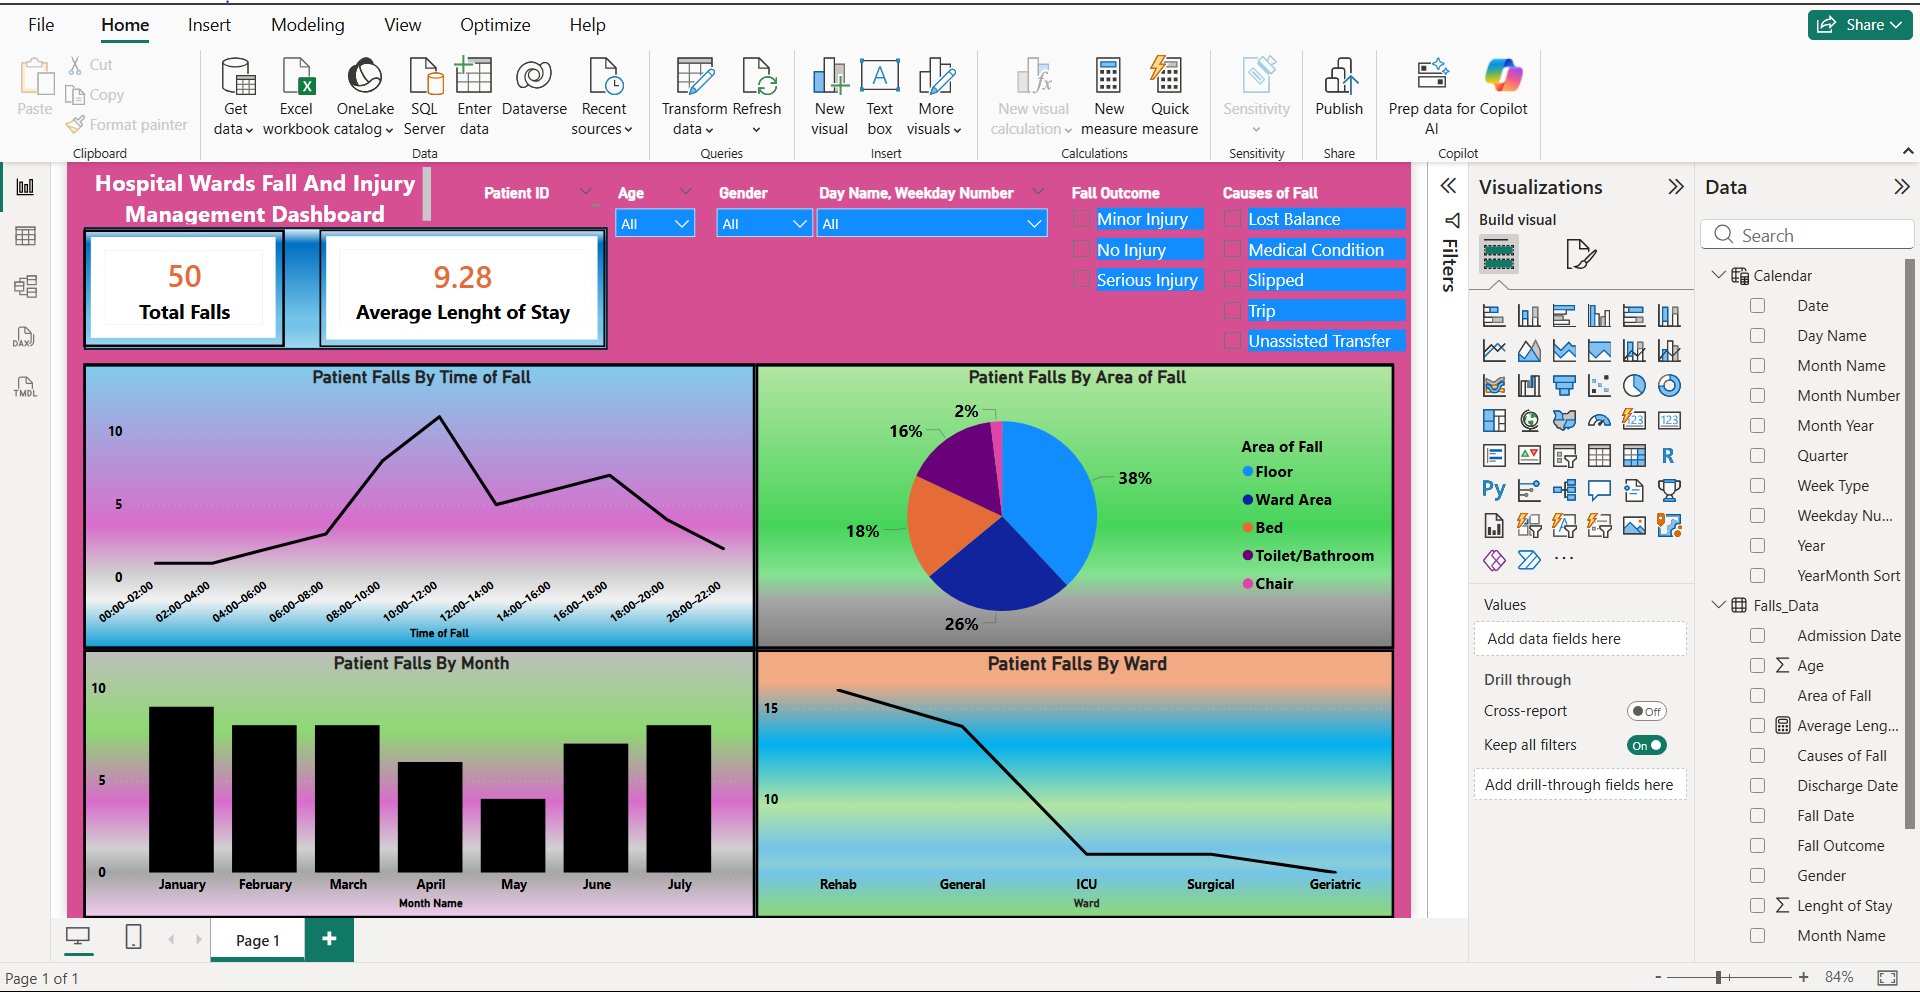

The dashboard page shown, as its layout file describes it:
{"tool":"powerbi","page":{"name":"Page 1","canvas":[1280,720],"ordinal":0},"visuals":[{"type":"lineChart","title":"Patient Falls By Time of Fall","fields":{"Y":["CountNonNull(Falls_Data.Patient ID)"],"Category":["Falls_Data.Time of Fall"]},"box":[16,192,640,272],"z":0},{"type":"pieChart","title":"Patient Falls By Area of Fall ","fields":{"Y":["CountNonNull(Falls_Data.Area of Fall)"],"Category":["Falls_Data.Area of Fall"]},"box":[656,192,608,272],"z":1000},{"type":"slicer","fields":{"Values":["Falls_Data.Gender"]},"box":[608,16,112,64],"z":2000},{"type":"slicer","fields":{"Values":["Falls_Data.Age"]},"box":[512,16,96,64],"z":3000},{"type":"slicer","fields":{"Values":["Falls_Data.Fall Outcome"]},"box":[944,16,144,144],"z":4000},{"type":"columnChart","title":"Patient Falls By Month ","fields":{"Category":["Calendar.Month Name"],"Y":["CountNonNull(Falls_Data.Patient ID)"]},"box":[16,464,640,256],"z":5000},{"type":"slicer","fields":{"Values":["Calendar.Day Name","Calendar.Weekday Number"]},"box":[704,16,240,64],"z":6000},{"type":"slicer","fields":{"Values":["Falls_Data.Causes of Fall"]},"box":[1088,16,192,176],"z":7000},{"type":"lineChart","title":"Patient Falls By Ward","fields":{"Category":["Falls_Data.Ward"],"Y":["CountNonNull(Falls_Data.Time of Fall)"]},"box":[656,464,608,256],"z":8000},{"type":"cardVisual","fields":{"Data":["Falls_Data.Average Lenght of Stay"]},"box":[240,64,272,112],"z":9000},{"type":"cardVisual","fields":{"Data":["Falls_Data.Total Falls"]},"box":[16,64,192,112],"z":10000},{"type":"slicer","fields":{"Values":["Falls_Data.Patient ID"]},"box":[384,16,128,32],"z":11000},{"type":"textbox","box":[16,0,336,64],"z":12000}]}

Visuals, with their boxes on the page's 1280x720 design canvas (x1, y1, x2, y2). These are canvas units, not pixel positions in the 1920x992 screenshot, which may show the page scaled, cropped or inside an application window:
"Patient Falls By Time of Fall" lineChart: pyautogui.locateOnScreen(16, 192, 656, 464)
"Patient Falls By Area of Fall " pieChart: pyautogui.locateOnScreen(656, 192, 1264, 464)
slicer - Falls_Data.Gender: pyautogui.locateOnScreen(608, 16, 720, 80)
slicer - Falls_Data.Age: pyautogui.locateOnScreen(512, 16, 608, 80)
slicer - Falls_Data.Fall Outcome: pyautogui.locateOnScreen(944, 16, 1088, 160)
"Patient Falls By Month " columnChart: pyautogui.locateOnScreen(16, 464, 656, 720)
slicer - Calendar.Day Name x Calendar.Weekday Number: pyautogui.locateOnScreen(704, 16, 944, 80)
slicer - Falls_Data.Causes of Fall: pyautogui.locateOnScreen(1088, 16, 1280, 192)
"Patient Falls By Ward" lineChart: pyautogui.locateOnScreen(656, 464, 1264, 720)
cardVisual - Falls_Data.Average Lenght of Stay: pyautogui.locateOnScreen(240, 64, 512, 176)
cardVisual - Falls_Data.Total Falls: pyautogui.locateOnScreen(16, 64, 208, 176)
slicer - Falls_Data.Patient ID: pyautogui.locateOnScreen(384, 16, 512, 48)
textbox: pyautogui.locateOnScreen(16, 0, 352, 64)
